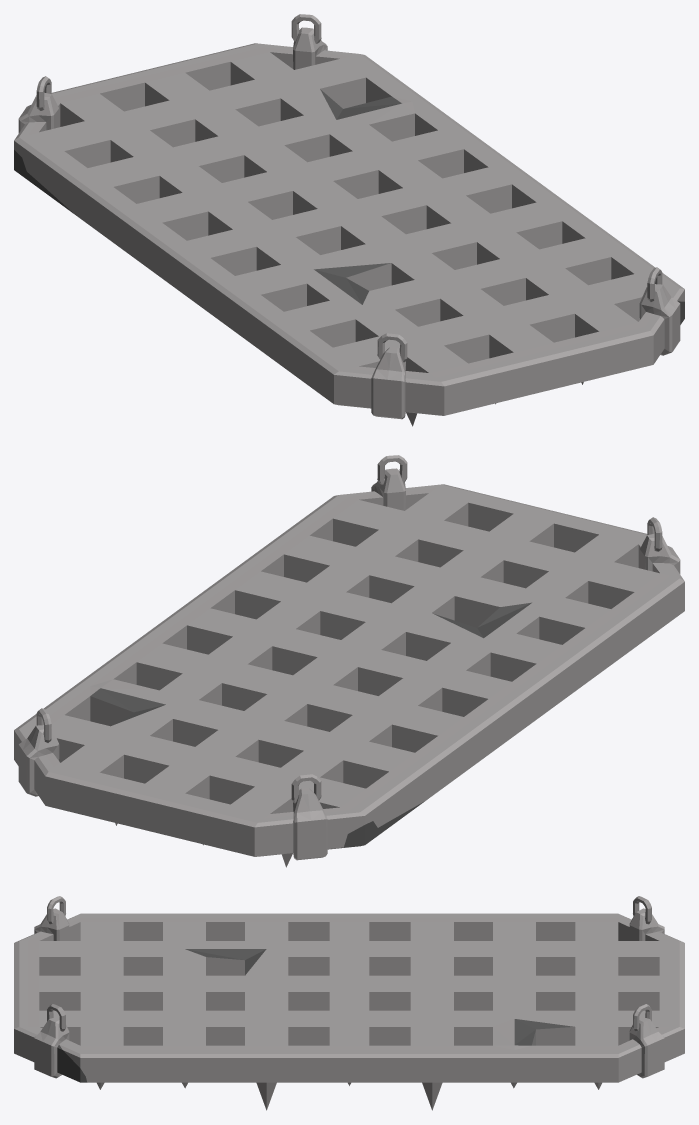
Rendered from SMLRoofMetalSpikeTrap.fbx.
The picture shows the model from 3 angles, top to bottom: view 1: azimuth 30°, elevation 25°; view 2: azimuth 150°, elevation 25°; view 3: azimuth 270°, elevation 25°; orthographic projection. The views are drawn at different scales.
Parts seen in each view (by area): view 1: SMLRoofMetalSpikeTrap; view 2: SMLRoofMetalSpikeTrap; view 3: SMLRoofMetalSpikeTrap.
Part boxes in pixels (x1,y1,x2,y2): SMLRoofMetalSpikeTrap: [14, 14, 684, 426]; SMLRoofMetalSpikeTrap: [14, 455, 684, 867]; SMLRoofMetalSpikeTrap: [14, 896, 684, 1110].
Size of the model in its own units: 165 by 73.21 by 325.
